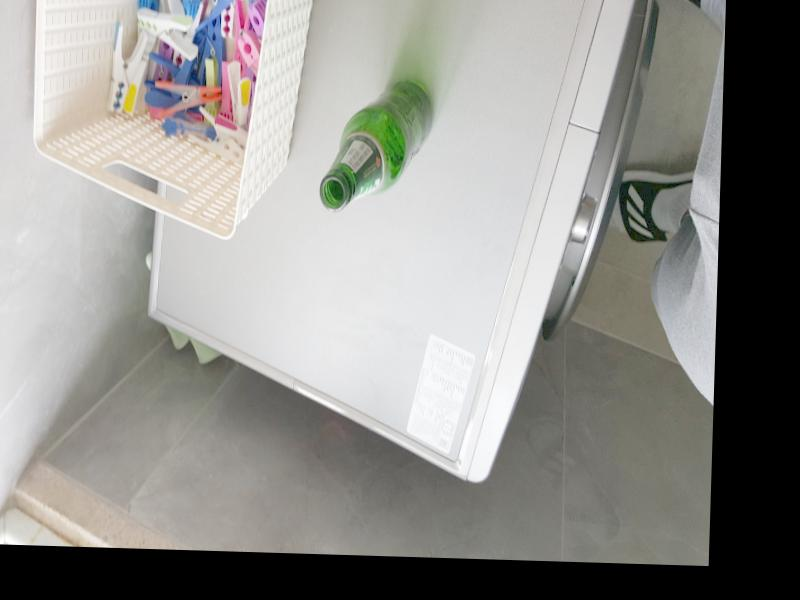Beer: (320, 79, 435, 215)
